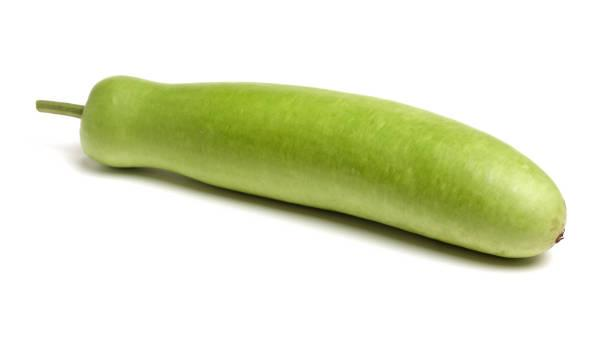bottle gourd: (35, 73, 567, 259)
